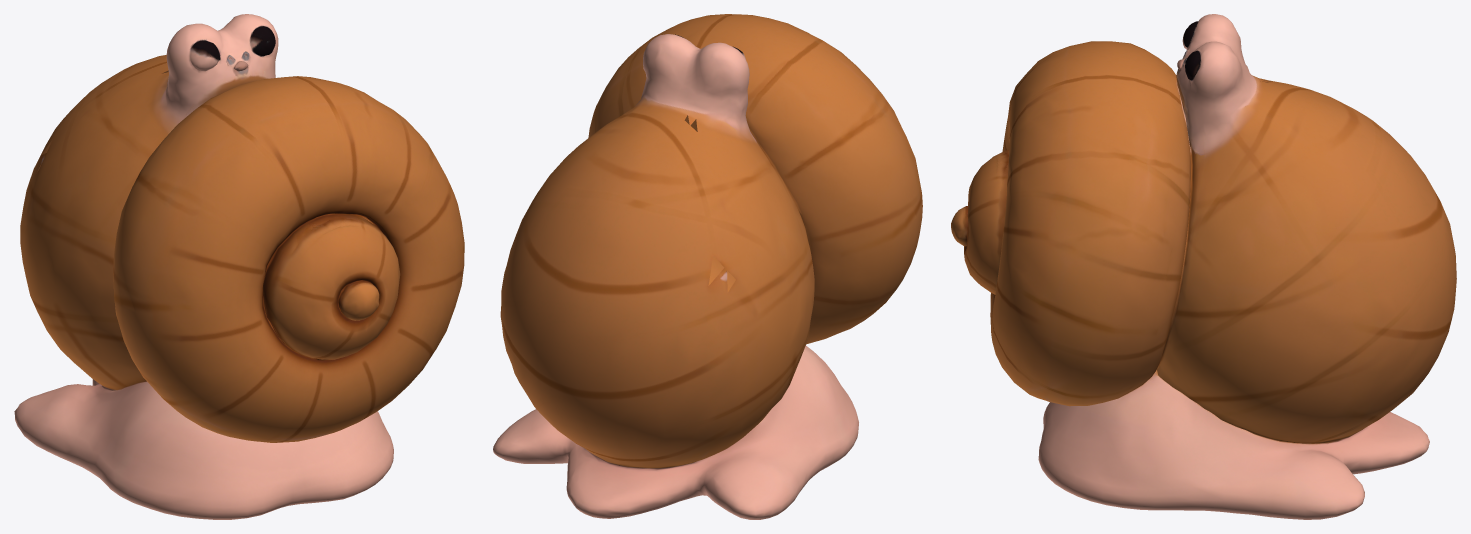
Rendered from snail.glb.
The picture shows the model from 3 angles, left to right: view 1: azimuth 30°, elevation 25°; view 2: azimuth 150°, elevation 25°; view 3: azimuth 270°, elevation 25°; orthographic projection. The views are drawn at different scales.
Size of the model in its own units: 0.6968 by 0.8828 by 0.9502.
1 material, 1 textured.
